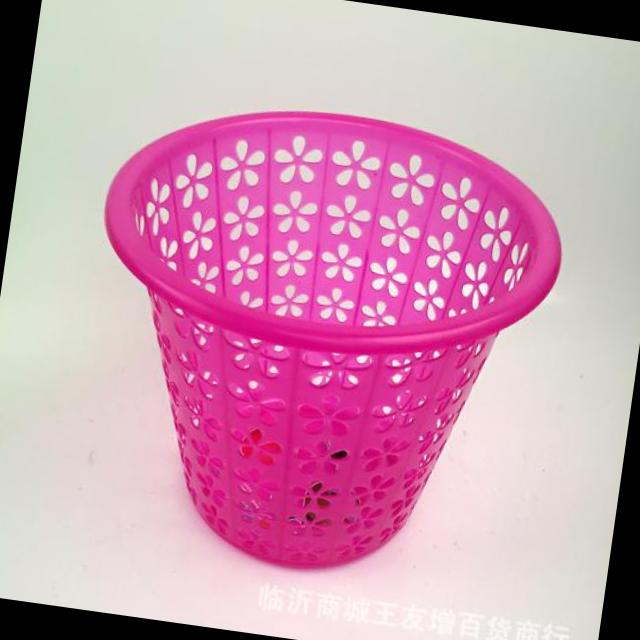dustbin: (55, 70, 585, 610)
